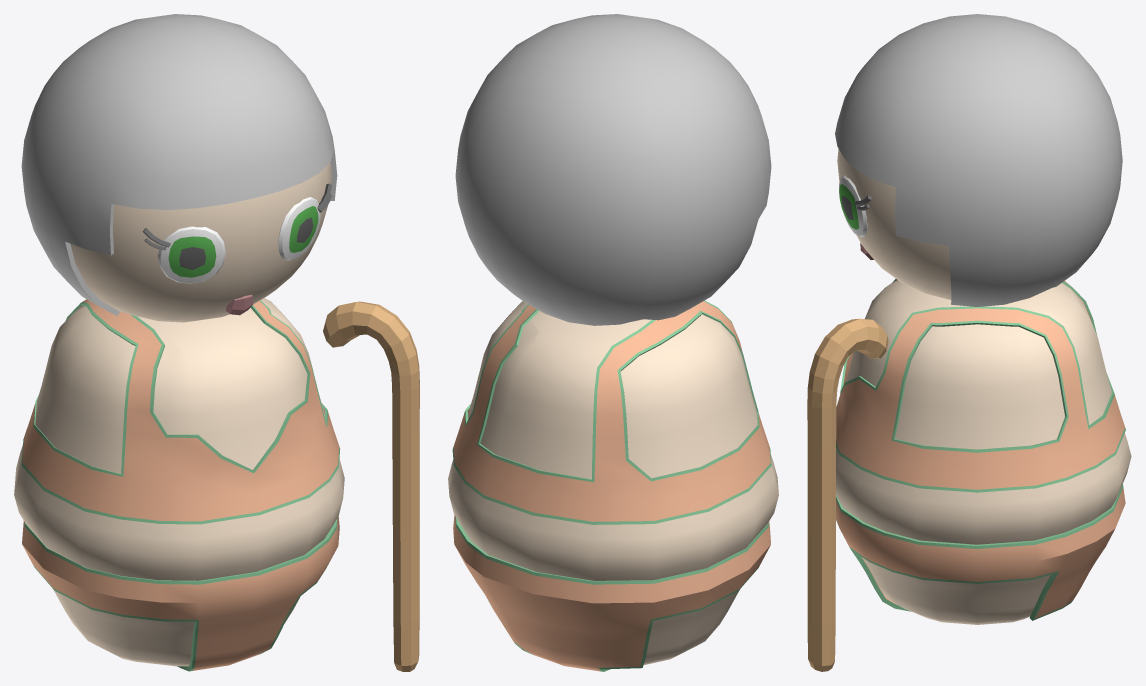
File: elizabeth.fbx
3 renders of one model, left to right at view 1: azimuth 30°, elevation 25°; view 2: azimuth 150°, elevation 25°; view 3: azimuth 270°, elevation 25°, orthographic. The views are drawn at different scales.
Visible parts, largest first — view 1: Cube.013; view 2: Cube.013; view 3: Cube.013.
Part boxes in pixels (bbox=[...]): Cube.013: bbox=[14, 14, 419, 671]; Cube.013: bbox=[448, 14, 778, 671]; Cube.013: bbox=[807, 14, 1131, 671].
Size of the model in its own units: 185 by 360 by 184.
